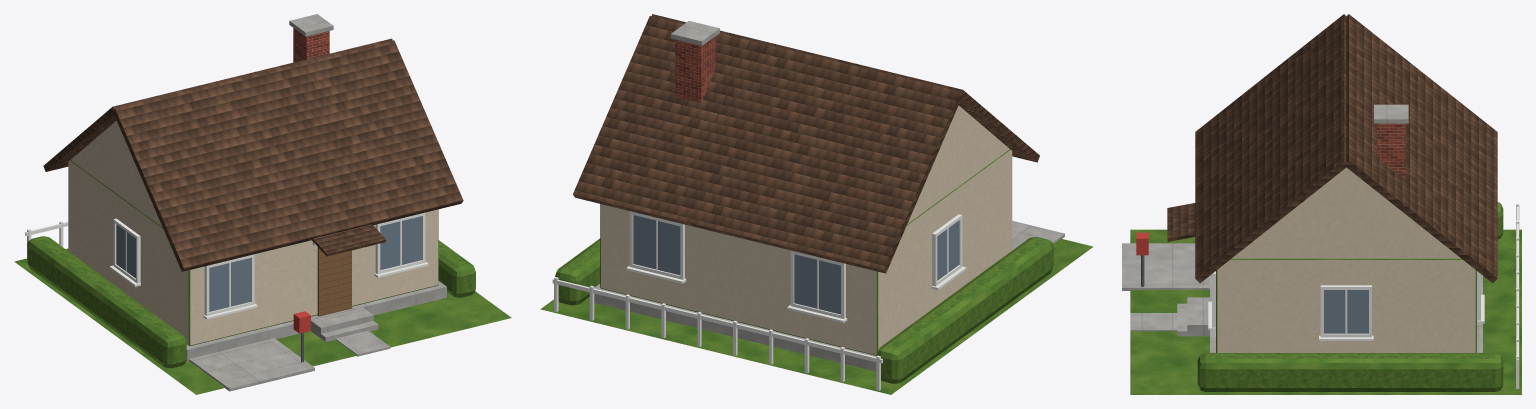
The model's file is house_2.gltf.
3 views of the same model, side by side, from view 1: azimuth 30°, elevation 25°; view 2: azimuth 150°, elevation 25°; view 3: azimuth 270°, elevation 25° (orthographic). The views are drawn at different scales.
Visible parts, largest first — view 1: house_2; view 2: house_2; view 3: house_2.
Boxes of the visible parts, x1,y1,x2,y2 form: house_2: (14, 14, 511, 394); house_2: (540, 14, 1093, 394); house_2: (1122, 14, 1521, 394).
Size of the model in its own units: 1.92 by 1.31 by 1.96.
11 materials, 7 textured.
